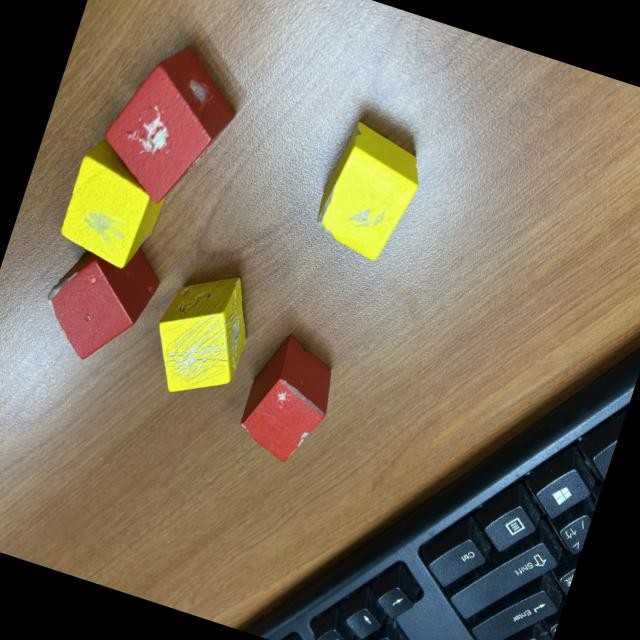broken: (88, 29, 253, 218), (32, 224, 169, 374), (136, 258, 265, 414), (307, 115, 433, 269), (53, 138, 178, 276), (231, 328, 346, 470)
